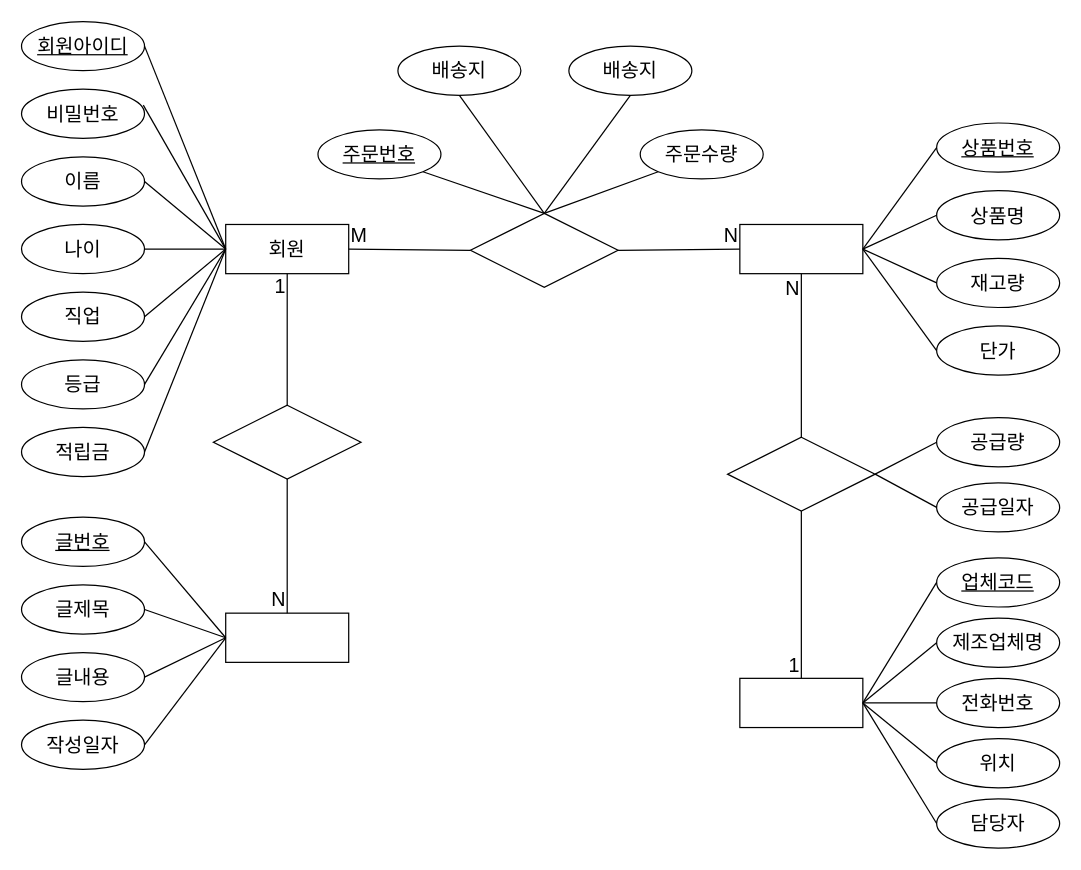
Image size: 1081x870. Some labels were removed from this diagram. The centre of each missing label's shape, as x and y in pixels:
"게시글" belongs at point (286, 637).
"공급" belongs at point (800, 473).
"상품" belongs at point (801, 248).
"작성" belongs at point (286, 441).
"제조업체" belongs at point (801, 702).
"주문" belongs at point (543, 249).
